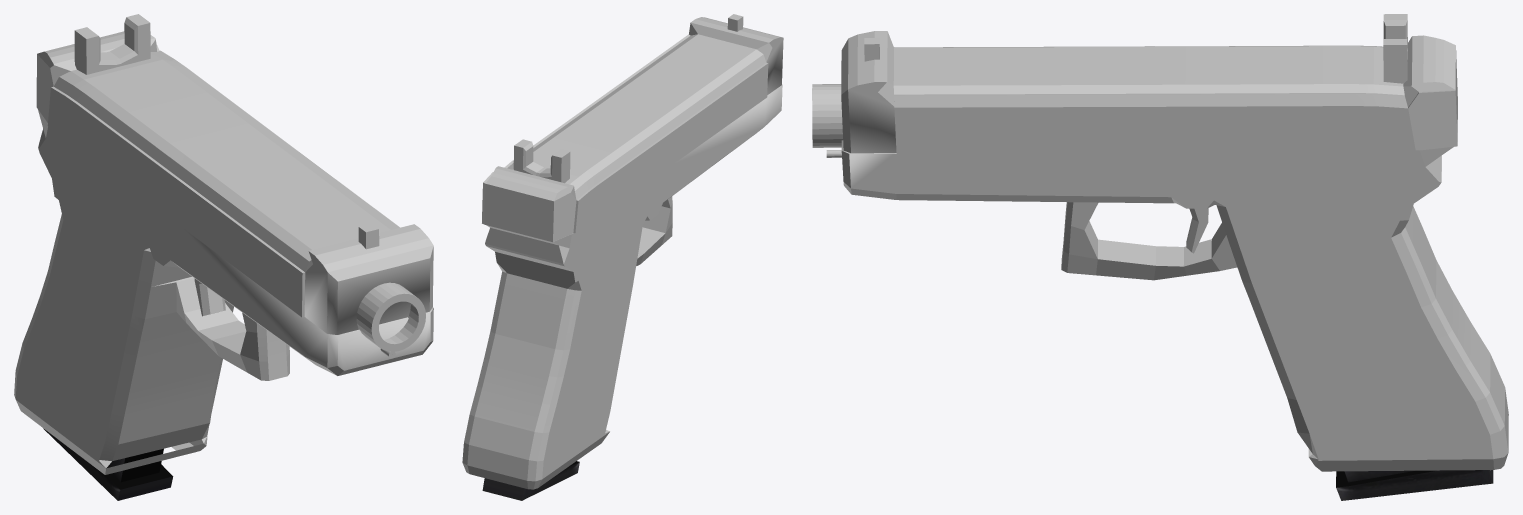
Rendered from OneTextureGlock.fbx.
3 renders of one model, left to right at view 1: azimuth 30°, elevation 25°; view 2: azimuth 150°, elevation 25°; view 3: azimuth 270°, elevation 25°, orthographic. The views are drawn at different scales.
Parts seen in each view (by area): view 1: Cube, Cube_003, Mag; view 2: Cube, Cube_003, Mag; view 3: Cube, Cube_003, Mag.
Boxes of the visible parts, box(x1,y1,x2,y2) form: Cube: box(14, 109, 433, 474); Cube_003: box(36, 14, 433, 334); Mag: box(43, 428, 173, 500); Cube: box(462, 84, 782, 489); Cube_003: box(482, 14, 783, 242); Mag: box(482, 461, 579, 500); Cube: box(812, 84, 1508, 471); Cube_003: box(841, 14, 1457, 154); Mag: box(1336, 470, 1493, 500).
Size of the model in its own units: 10.25 by 38.67 by 53.44.
